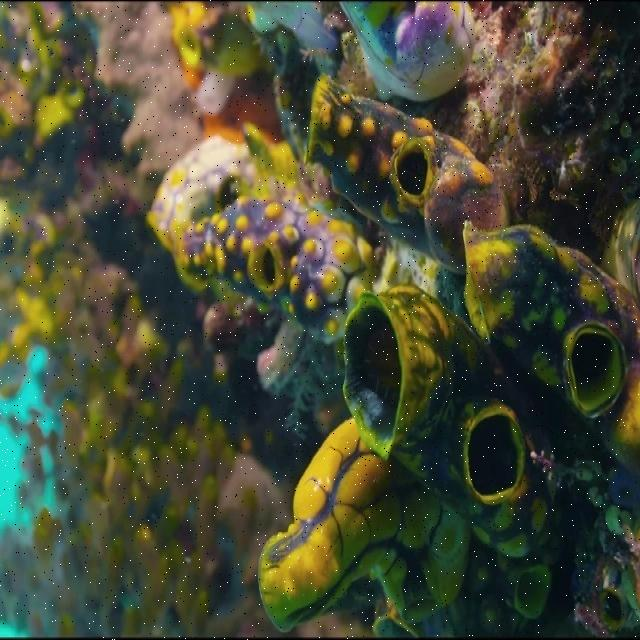reefs: (147, 0, 639, 639)
